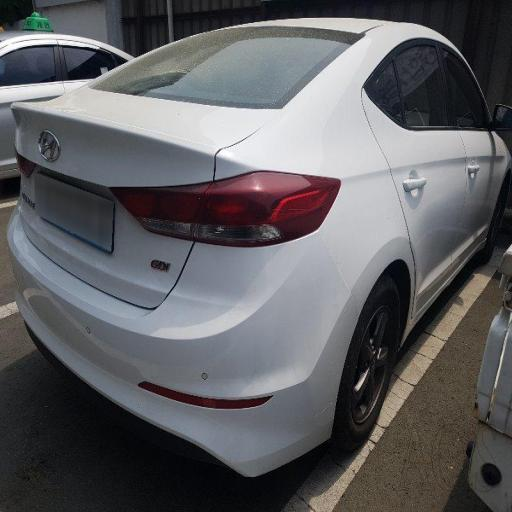scratch: (11, 246, 255, 450)
